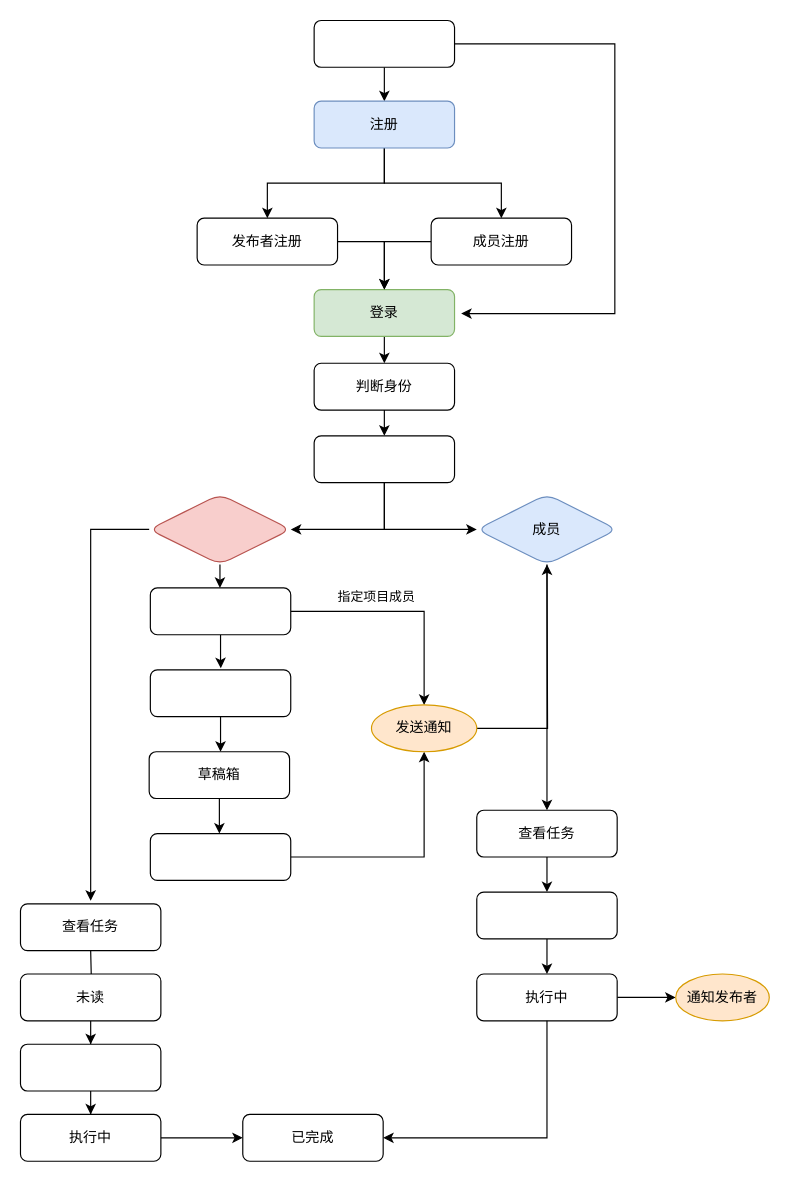
The diagram is 790 pixels wide and 1182 high, and some of its shapes have lost their labels. Each missing label, with the centre of its shape:
login: [384,43]
发布者: [219,529]
发布项目任务: [220,693]
已读: [90,1067]
待执行: [546,915]
指定成员: [220,856]
新建项目: [220,611]
设置cookie登录态: [384,459]
